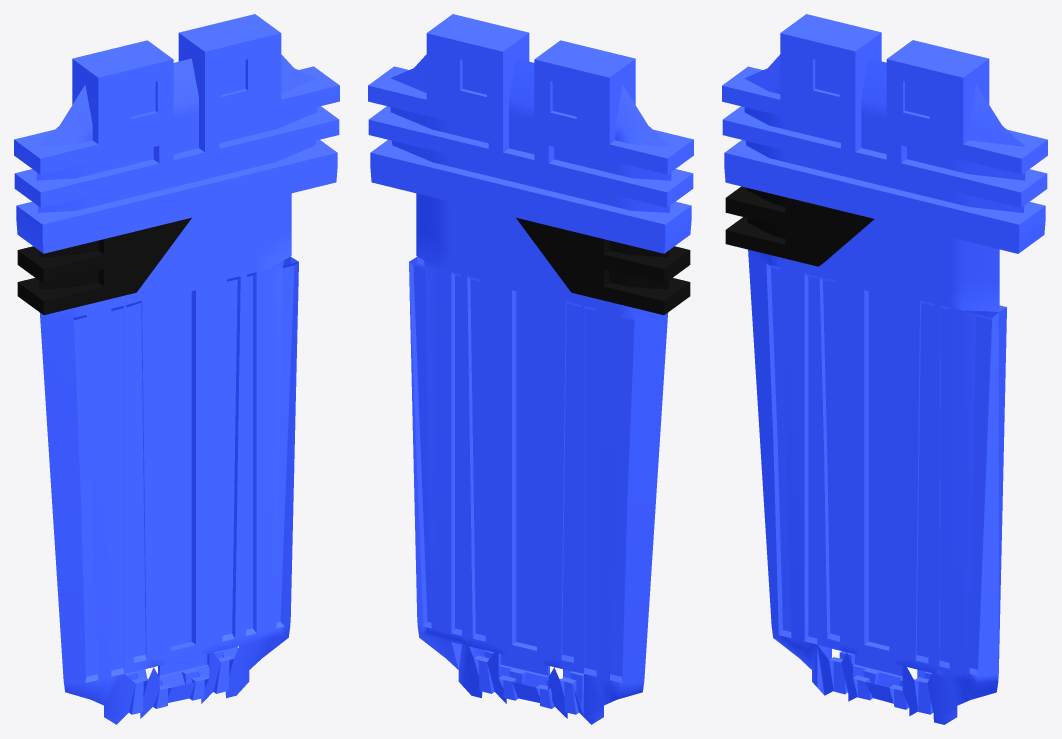
The model's file is col_Key.fbx.
3 renders of one model, left to right at view 1: azimuth 30°, elevation 25°; view 2: azimuth 150°, elevation 25°; view 3: azimuth 330°, elevation 25°, orthographic.
Visible parts, largest first — view 1: Chaves; view 2: Chaves; view 3: Chaves.
Part boxes in pixels (x1,y1,x2,y2): Chaves: (14,14,339,724); Chaves: (368,14,693,724); Chaves: (722,14,1047,724).
Bounding box in the file's own units: 100 × 212 × 15.17.
